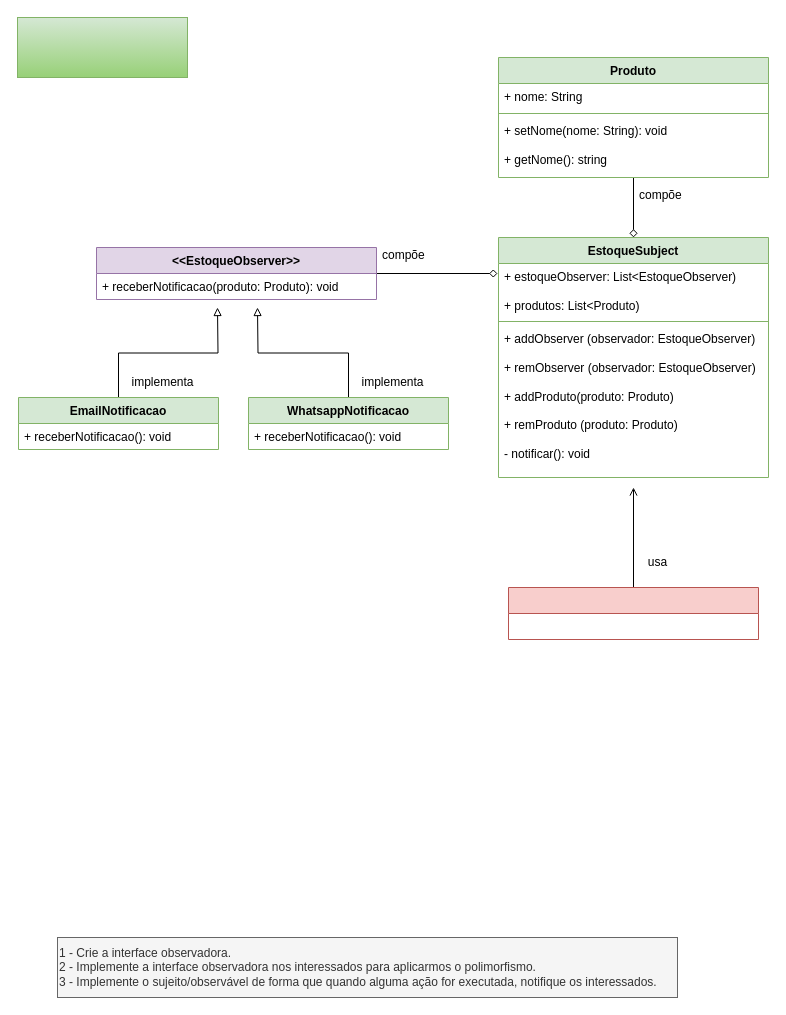
Image size: 786x1015. Some labels were removed from this diagram. Each missing label, with the centre of its shape:
"Cliente" goes at pixel 633 613.
"Observer" goes at pixel 102 47.
